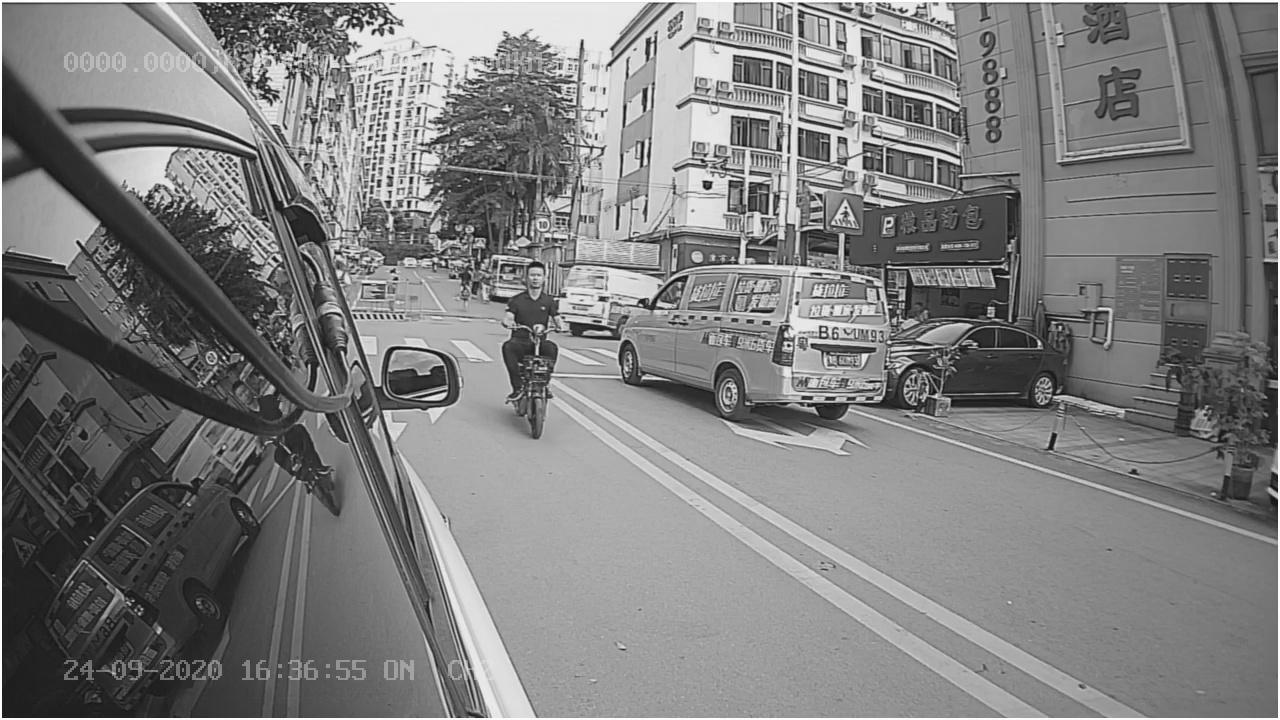person: (482, 255, 583, 449)
